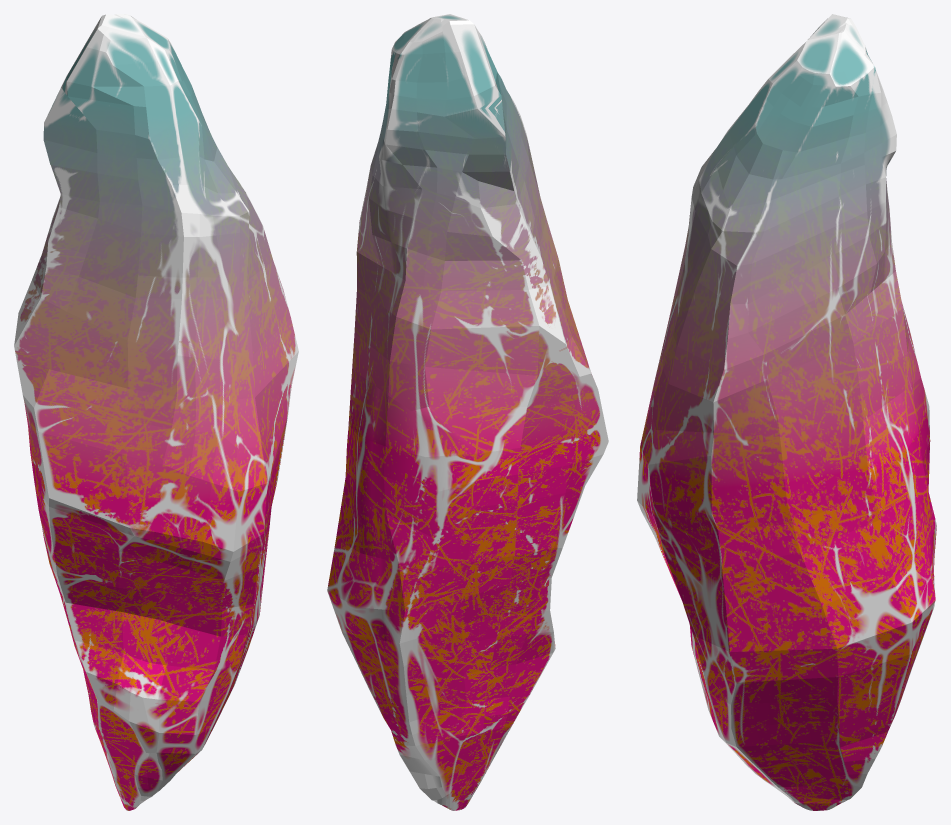
The model's file is crystal.fbx.
3 views of the same model, side by side, from view 1: azimuth 30°, elevation 25°; view 2: azimuth 150°, elevation 25°; view 3: azimuth 270°, elevation 25° (orthographic). The views are drawn at different scales.
Visible parts, largest first — view 1: pasted__pasted__polySurface1; view 2: pasted__pasted__polySurface1; view 3: pasted__pasted__polySurface1.
Part boxes in pixels (left/top/right/bottom): pasted__pasted__polySurface1: left=14, top=14, right=298, bottom=810; pasted__pasted__polySurface1: left=327, top=14, right=608, bottom=810; pasted__pasted__polySurface1: left=637, top=14, right=936, bottom=810.
Size of the model in its own units: 2.34 by 7.51 by 2.58.
Materials: 1 (1 with a texture image).
